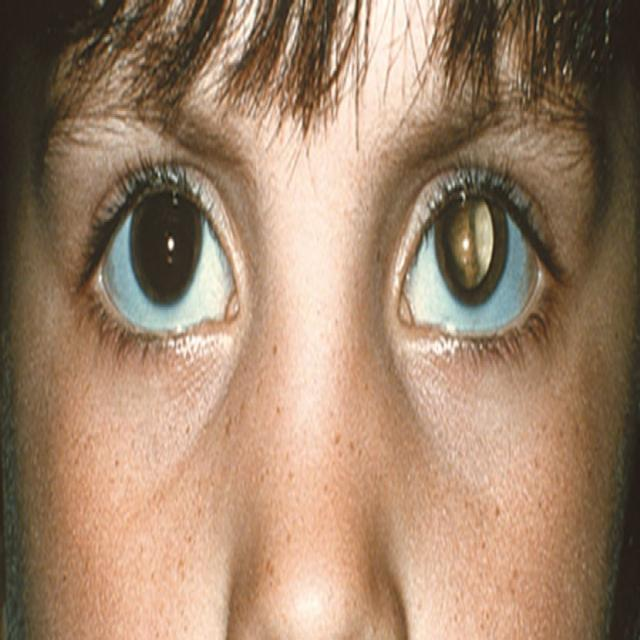reflexo-alterado: (394, 166, 547, 363)
reflexo-normal: (120, 177, 214, 341)
